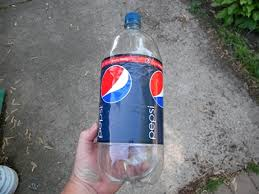HDPE Cap: (125, 13, 143, 23)
PET Bottle: (98, 13, 164, 186)
PVC Label: (99, 56, 164, 144)
